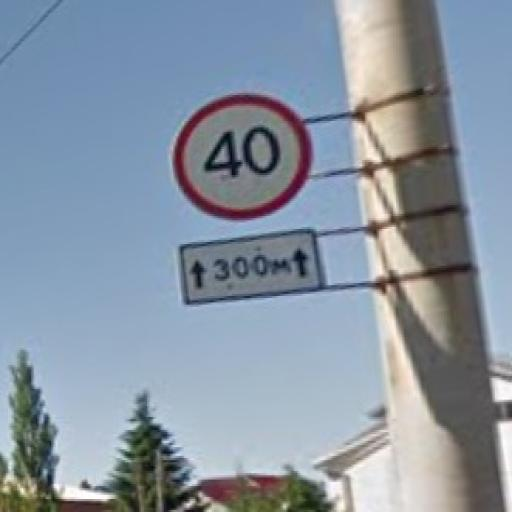traffic_sign: (173, 92, 314, 219)
